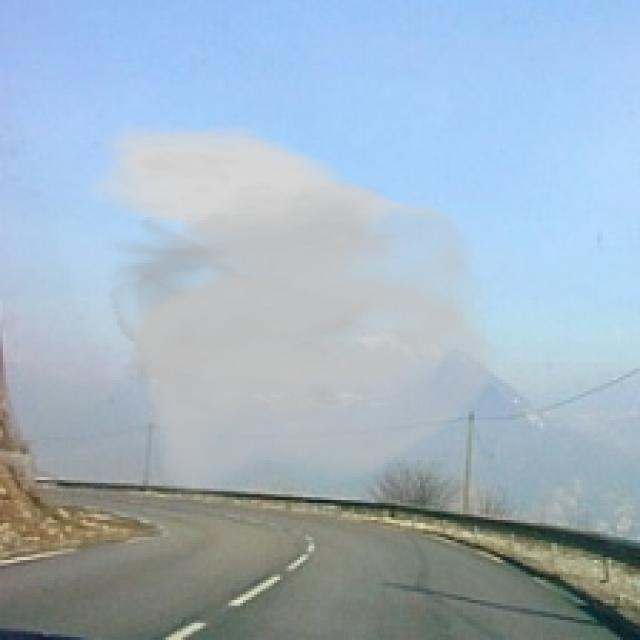smoke: (83, 120, 508, 494)
